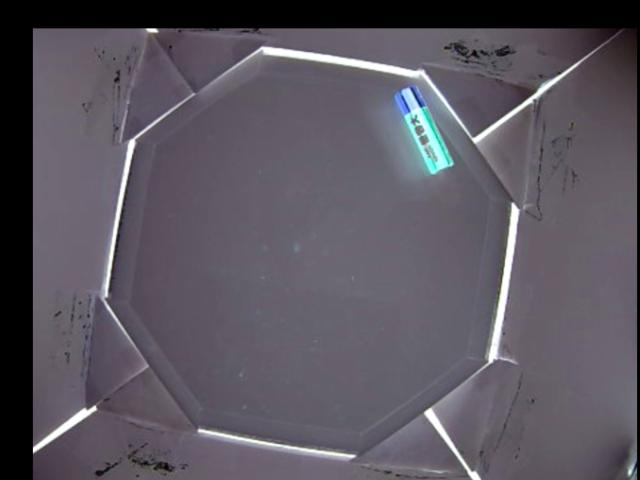Battery: (392, 85, 453, 176)
